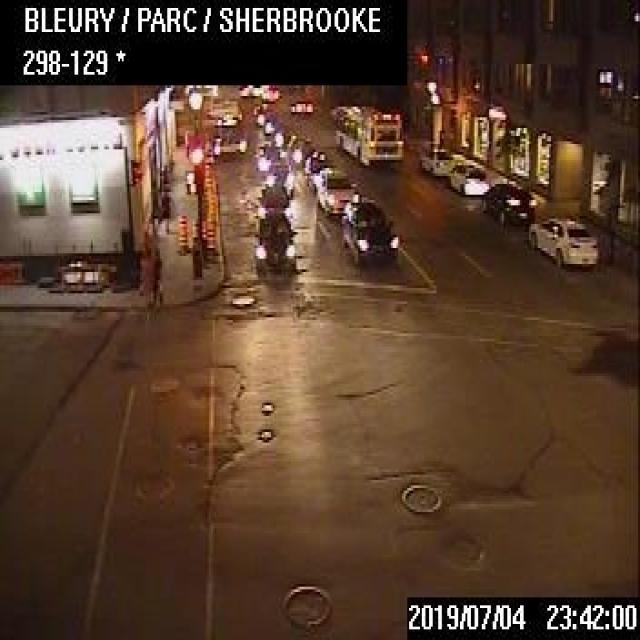bus: (332, 103, 402, 163), (208, 99, 245, 156)
construction: (174, 213, 188, 250), (204, 216, 215, 251), (202, 174, 210, 206), (207, 192, 214, 223), (204, 162, 211, 190), (191, 216, 198, 240)
pedestrian: (158, 184, 171, 232), (152, 246, 162, 304), (142, 245, 152, 303)
vehicle: (340, 192, 397, 262), (526, 213, 598, 268), (253, 210, 295, 273), (480, 181, 535, 223), (315, 165, 356, 214), (444, 159, 489, 193), (257, 183, 290, 219), (263, 160, 293, 196), (303, 148, 327, 191), (418, 147, 454, 174), (286, 136, 312, 166), (256, 142, 282, 172), (271, 123, 296, 148), (289, 97, 311, 115), (263, 113, 281, 133)
